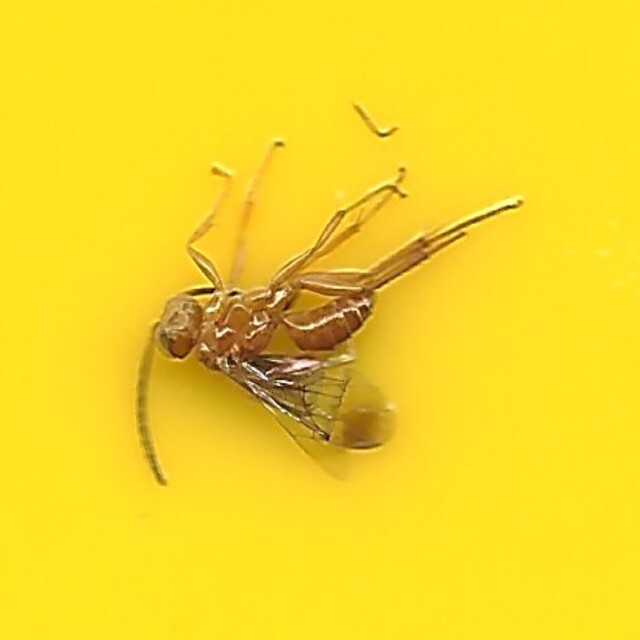Hymenoptera: (129, 145, 511, 495)
